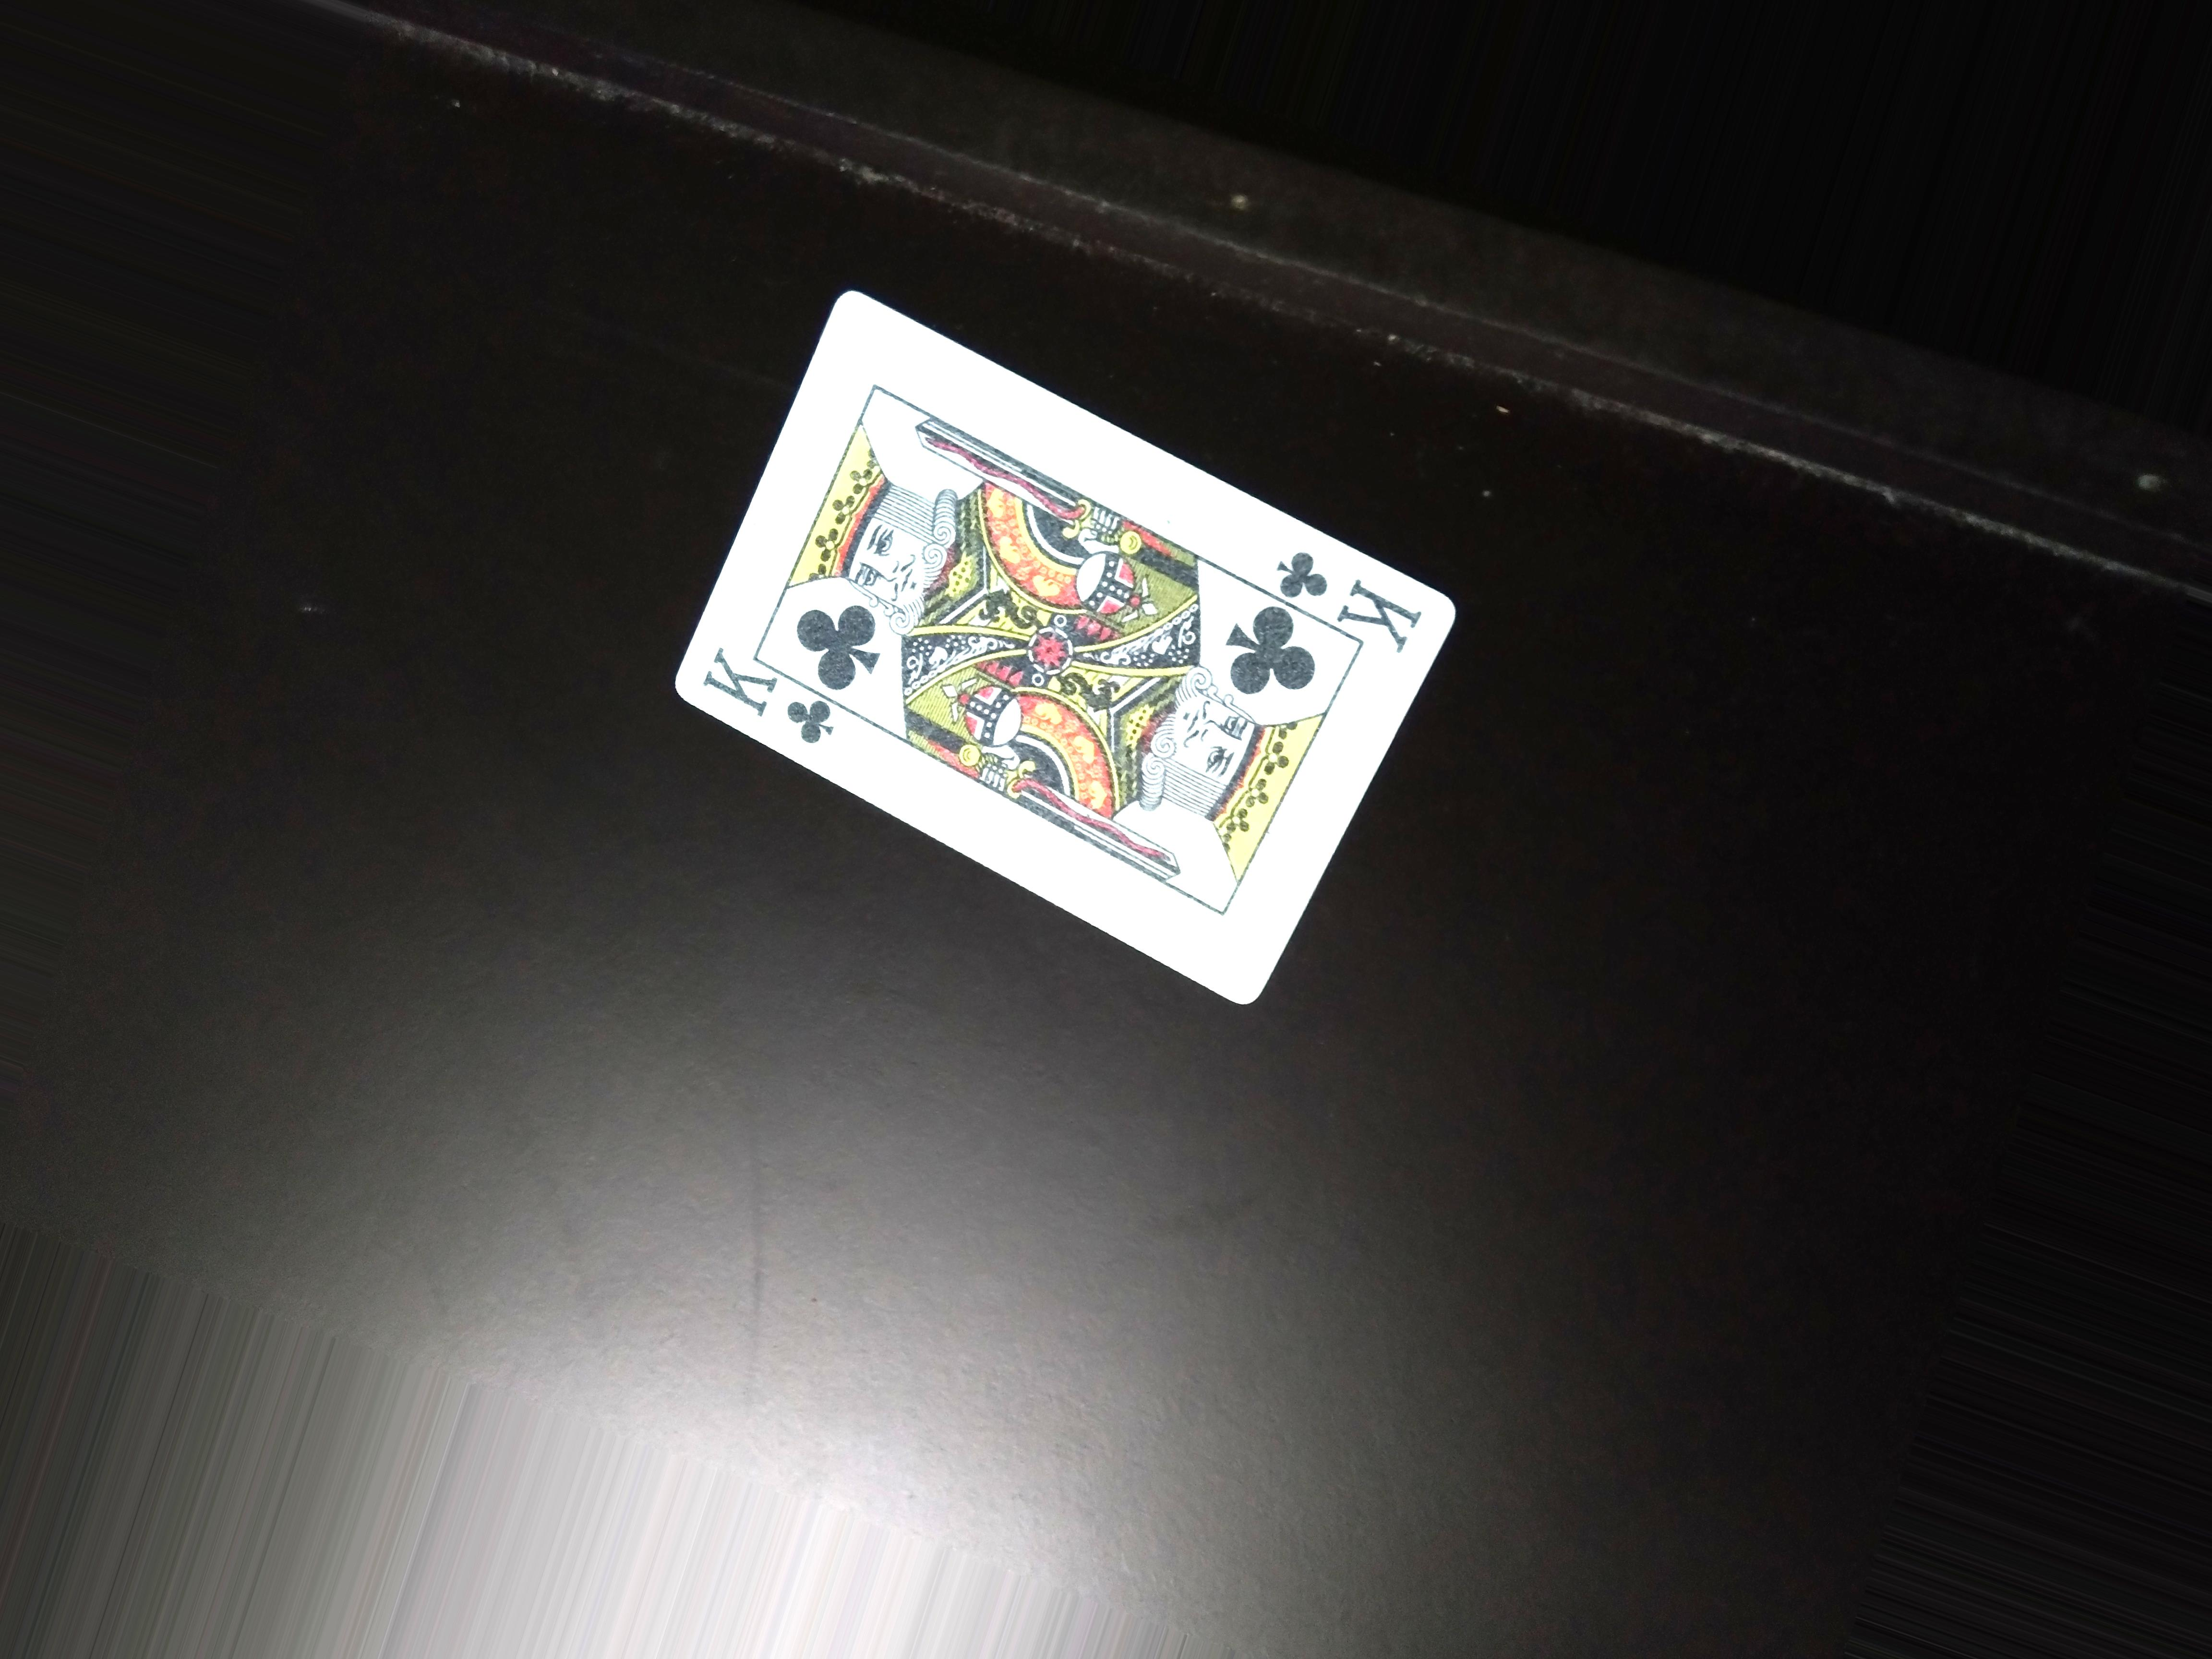KC: (1266, 547, 1428, 659)
